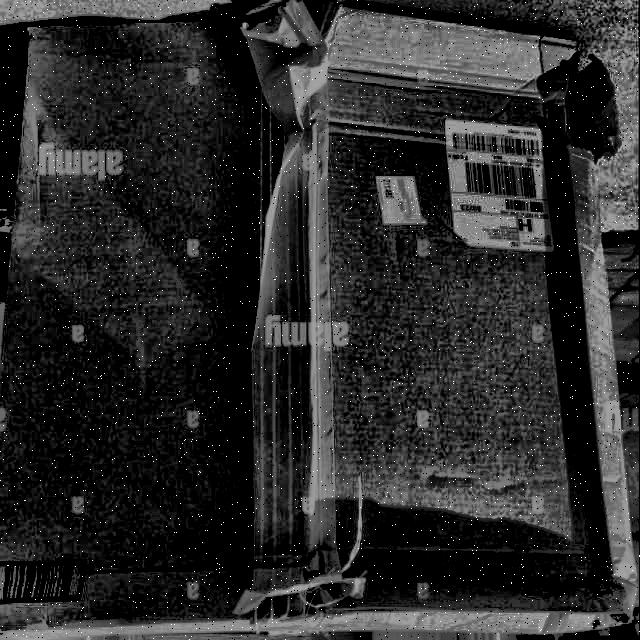box: (1, 1, 639, 640)
hole: (558, 41, 612, 166)
